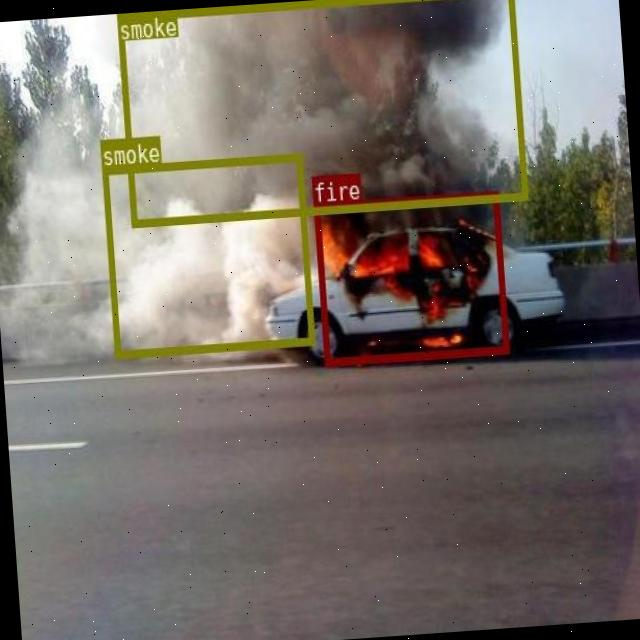fire: (312, 190, 508, 364)
smoke: (116, 0, 527, 225), (101, 152, 312, 356)
